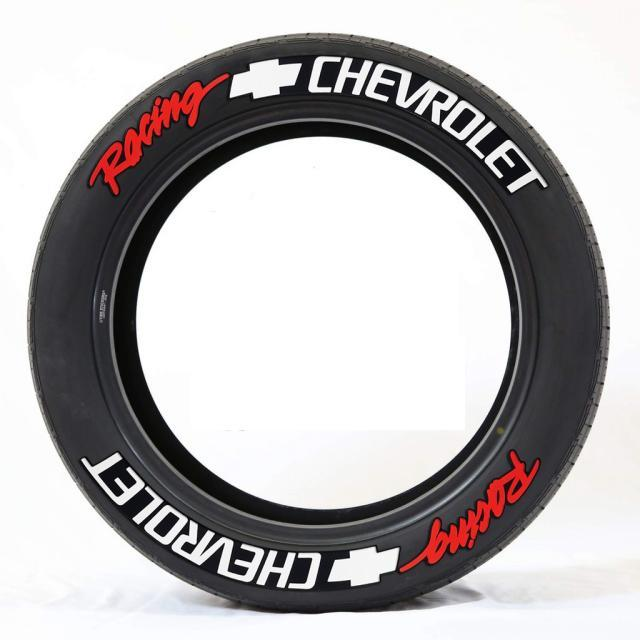Chevrolet: (82, 450, 400, 589), (232, 55, 546, 192)
